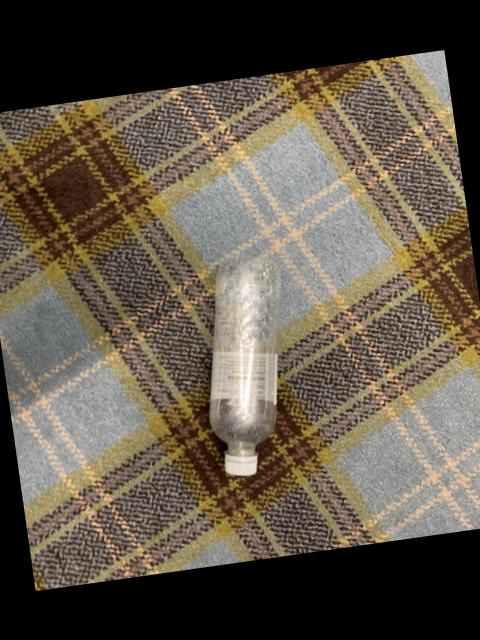plastic: (210, 253, 282, 473)
